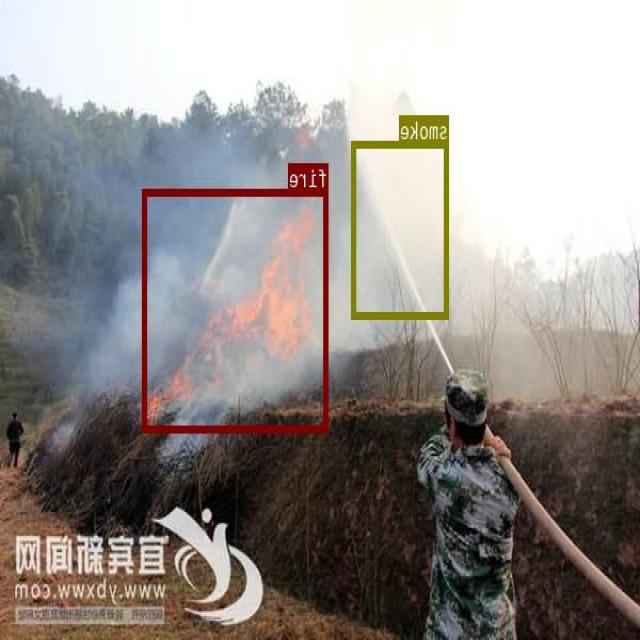fire: (144, 187, 328, 432)
smoke: (353, 140, 450, 318)
